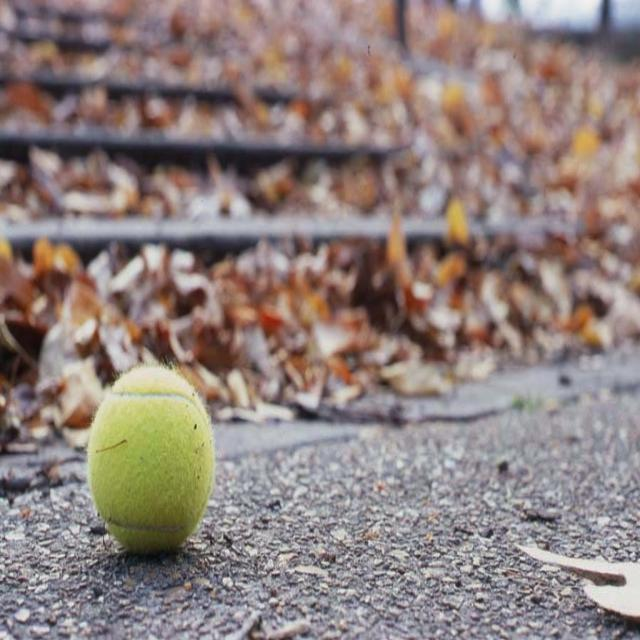Tennis ball: (87, 357, 214, 556)
